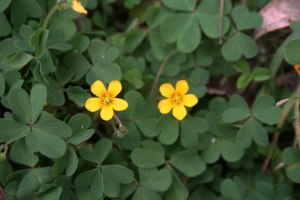oxalis: (13, 17, 281, 190)
